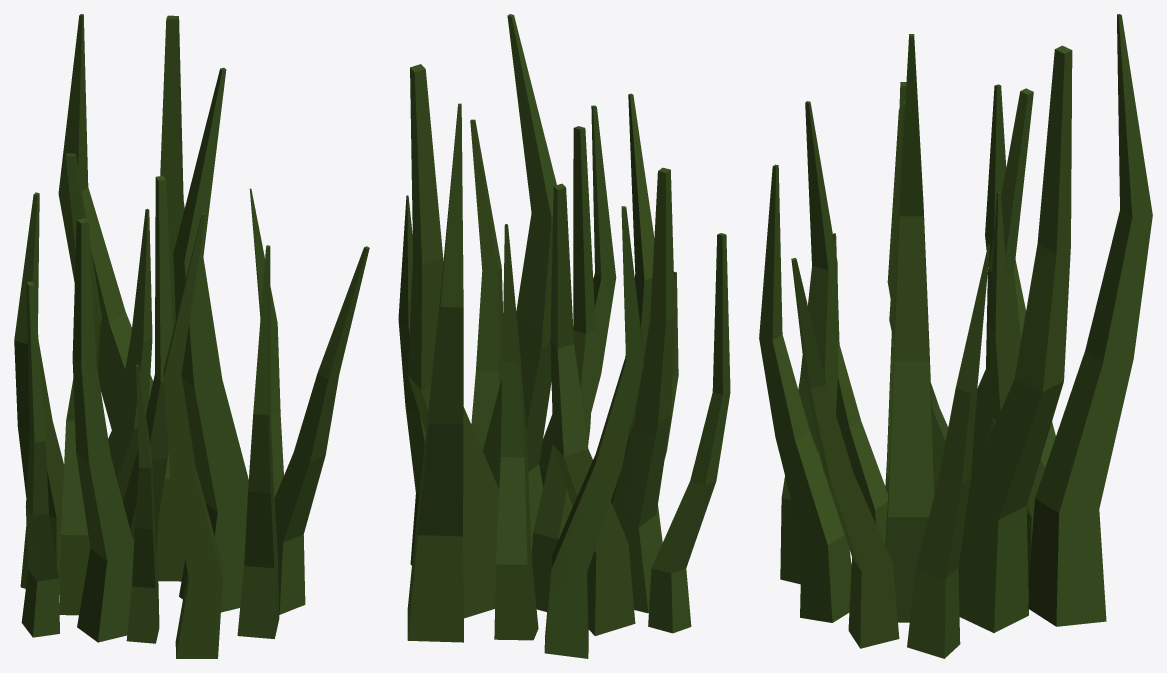
Rendered from Grass_06.fbx.
The picture shows the model from 3 angles, left to right: view 1: azimuth 30°, elevation 25°; view 2: azimuth 150°, elevation 25°; view 3: azimuth 270°, elevation 25°; orthographic projection. The views are drawn at different scales.
Visible parts, largest first — view 1: Grass_06; view 2: Grass_06; view 3: Grass_06.
Part boxes in pixels (bbox=[...]): Grass_06: bbox=[14, 14, 369, 658]; Grass_06: bbox=[398, 14, 730, 658]; Grass_06: bbox=[759, 14, 1152, 658].
Size of the model in its own units: 27.65 by 48.34 by 29.56.
